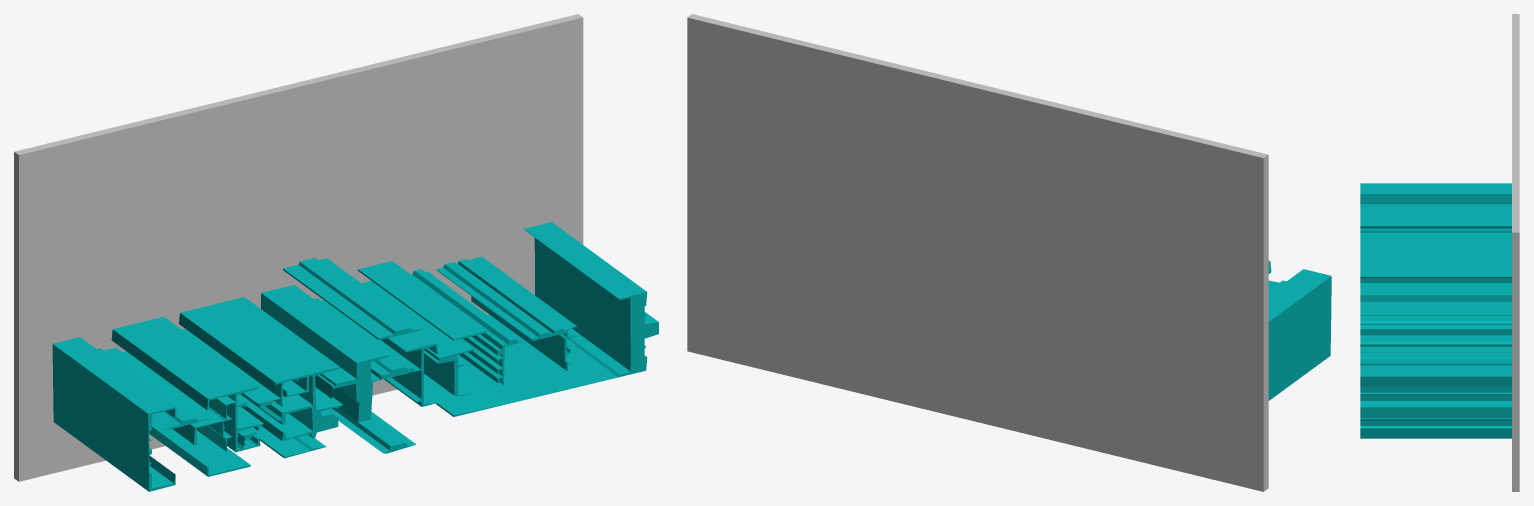
3 renders of one model, left to right at view 1: azimuth 30°, elevation 25°; view 2: azimuth 150°, elevation 25°; view 3: azimuth 270°, elevation 25°, orthographic. The views are drawn at different scales.
Visible parts, largest first — view 1: world; view 2: world; view 3: world.
Boxes of the visible parts, x1,y1,x2,y2 form: world: [14, 14, 658, 491]; world: [687, 14, 1331, 491]; world: [1360, 14, 1519, 491].
Bounding box in the file's own units: 10.23 × 5.66 × 3.15.
